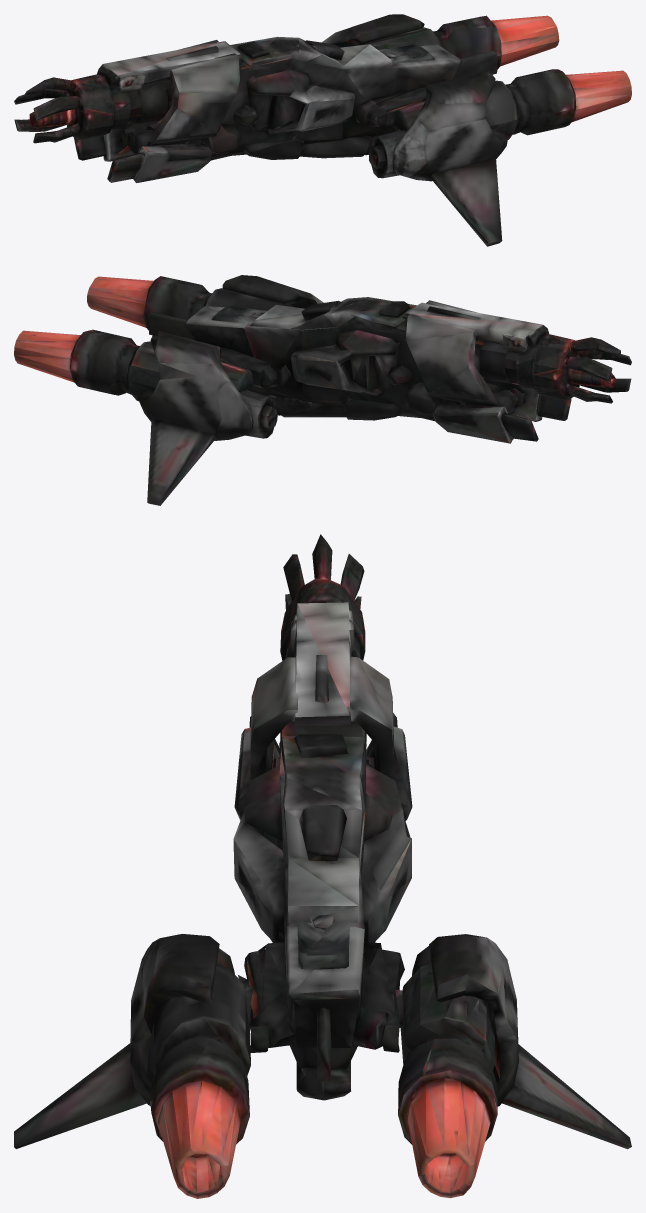
Rendered from nullifier_lod.glb.
3 renders of one model, top to bottom at view 1: azimuth 30°, elevation 25°; view 2: azimuth 150°, elevation 25°; view 3: azimuth 270°, elevation 25°, orthographic. The views are drawn at different scales.
Size of the model in its own units: 1 by 0.3164 by 0.5664.
1 material, 1 textured.
